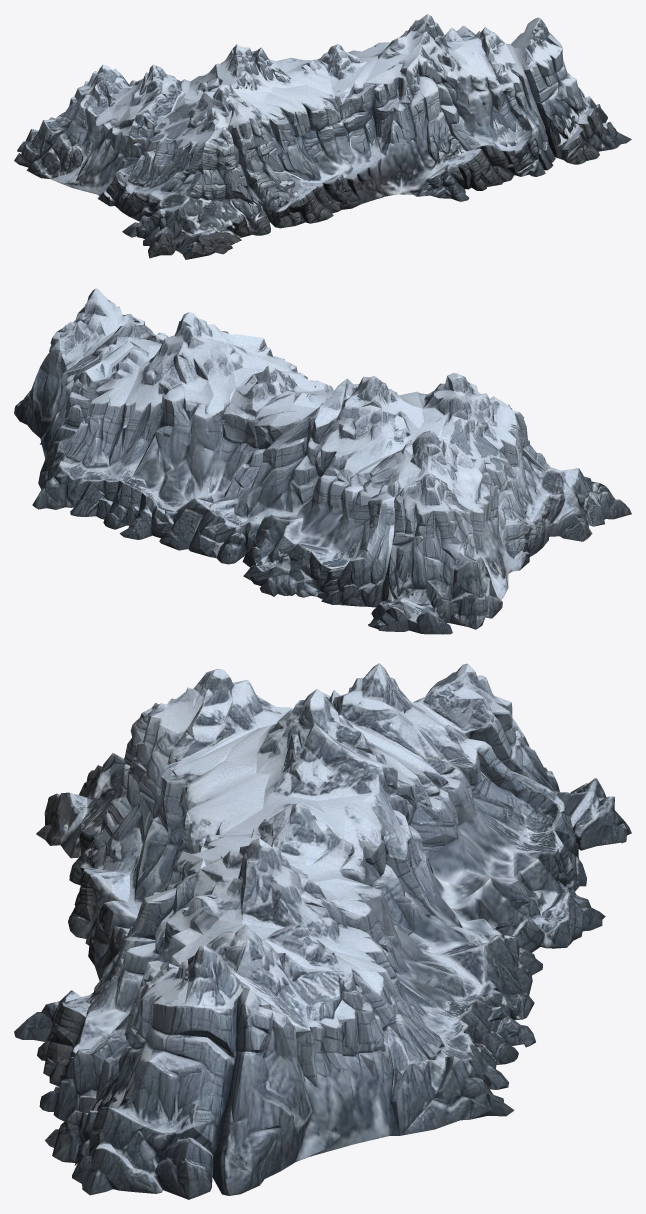
Rendered from mountain_b.glb.
3 views of the same model, one above another, from view 1: azimuth 30°, elevation 25°; view 2: azimuth 150°, elevation 25°; view 3: azimuth 270°, elevation 25° (orthographic). The views are drawn at different scales.
Bounding box in the file's own units: 1.9 × 0.4773 × 1.18.
Materials: 1 (1 with a texture image).
